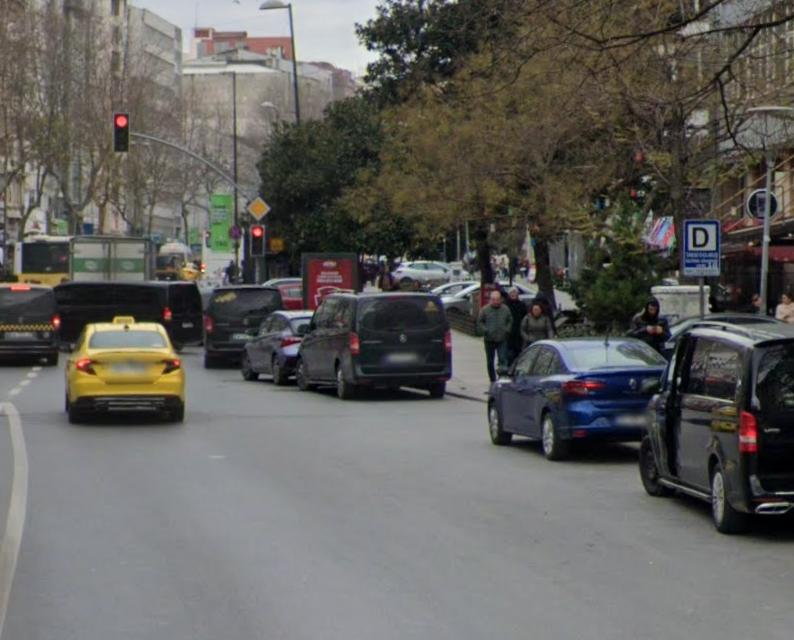redlight: (115, 111, 131, 150), (251, 220, 263, 258)
station: (684, 218, 717, 256)
